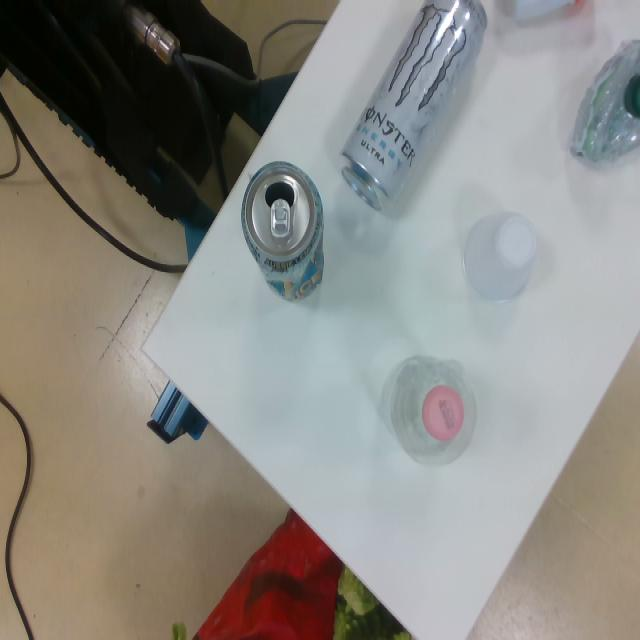aluminum: (338, 0, 492, 216), (239, 161, 326, 305)
plastic: (378, 348, 467, 461), (566, 38, 640, 173), (460, 210, 539, 306)
